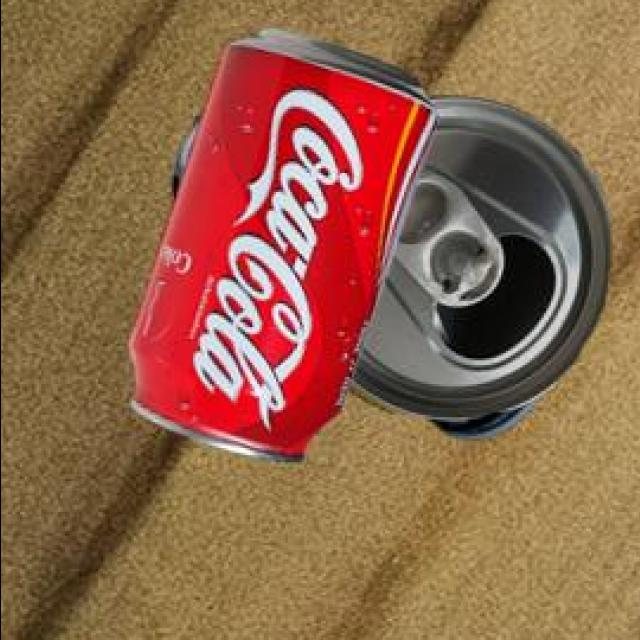logam: (132, 25, 440, 459), (177, 113, 539, 435), (350, 94, 613, 416)
